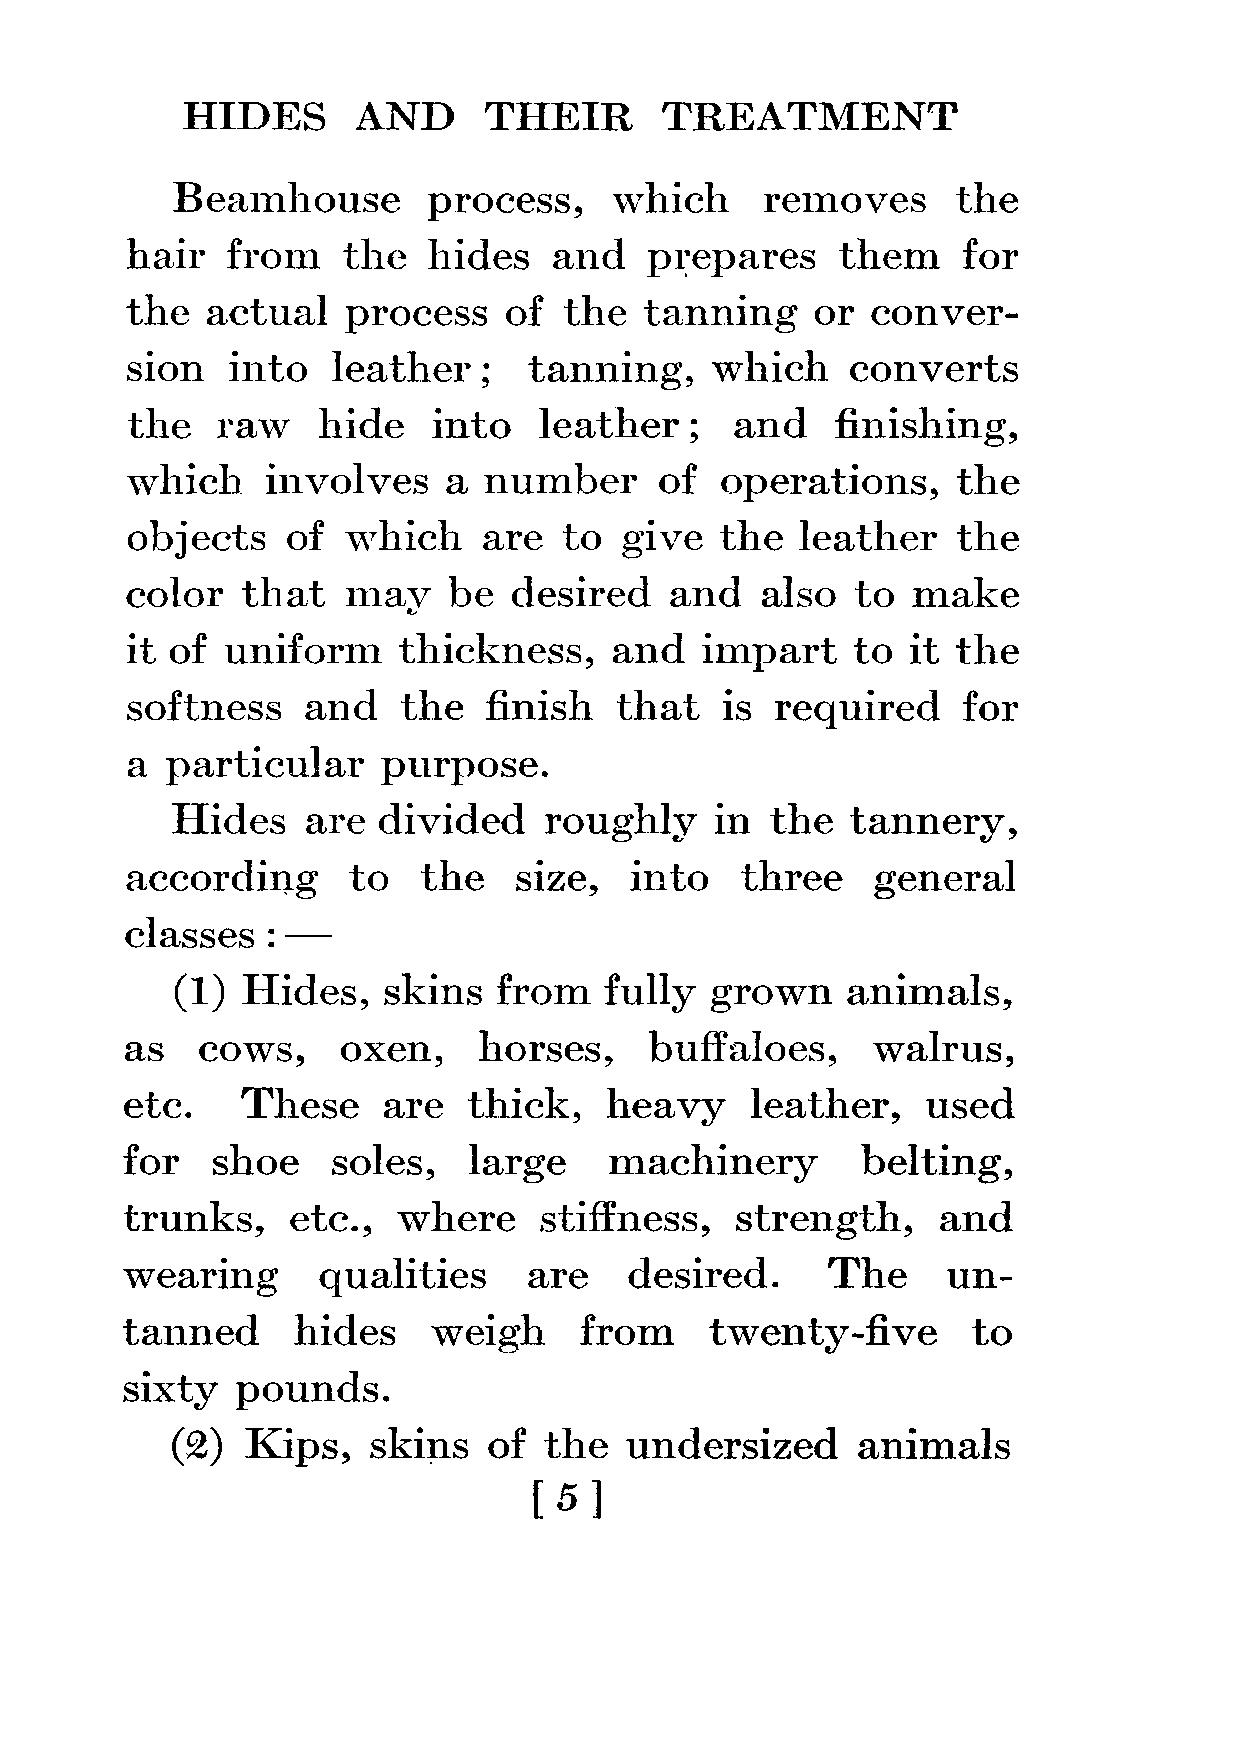chapter: (178, 89, 958, 141)
content: (119, 176, 1023, 1469)
content_pagenumber: (552, 1482, 585, 1512)
